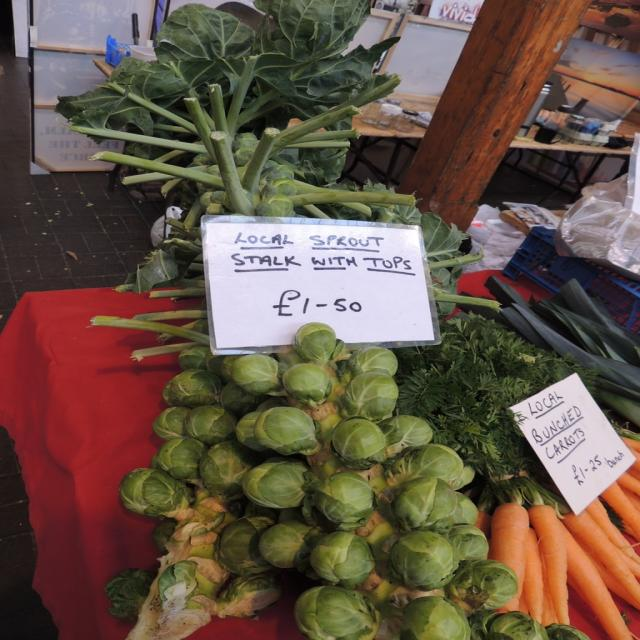Carrot: (530, 438, 640, 640), (486, 491, 532, 619)
